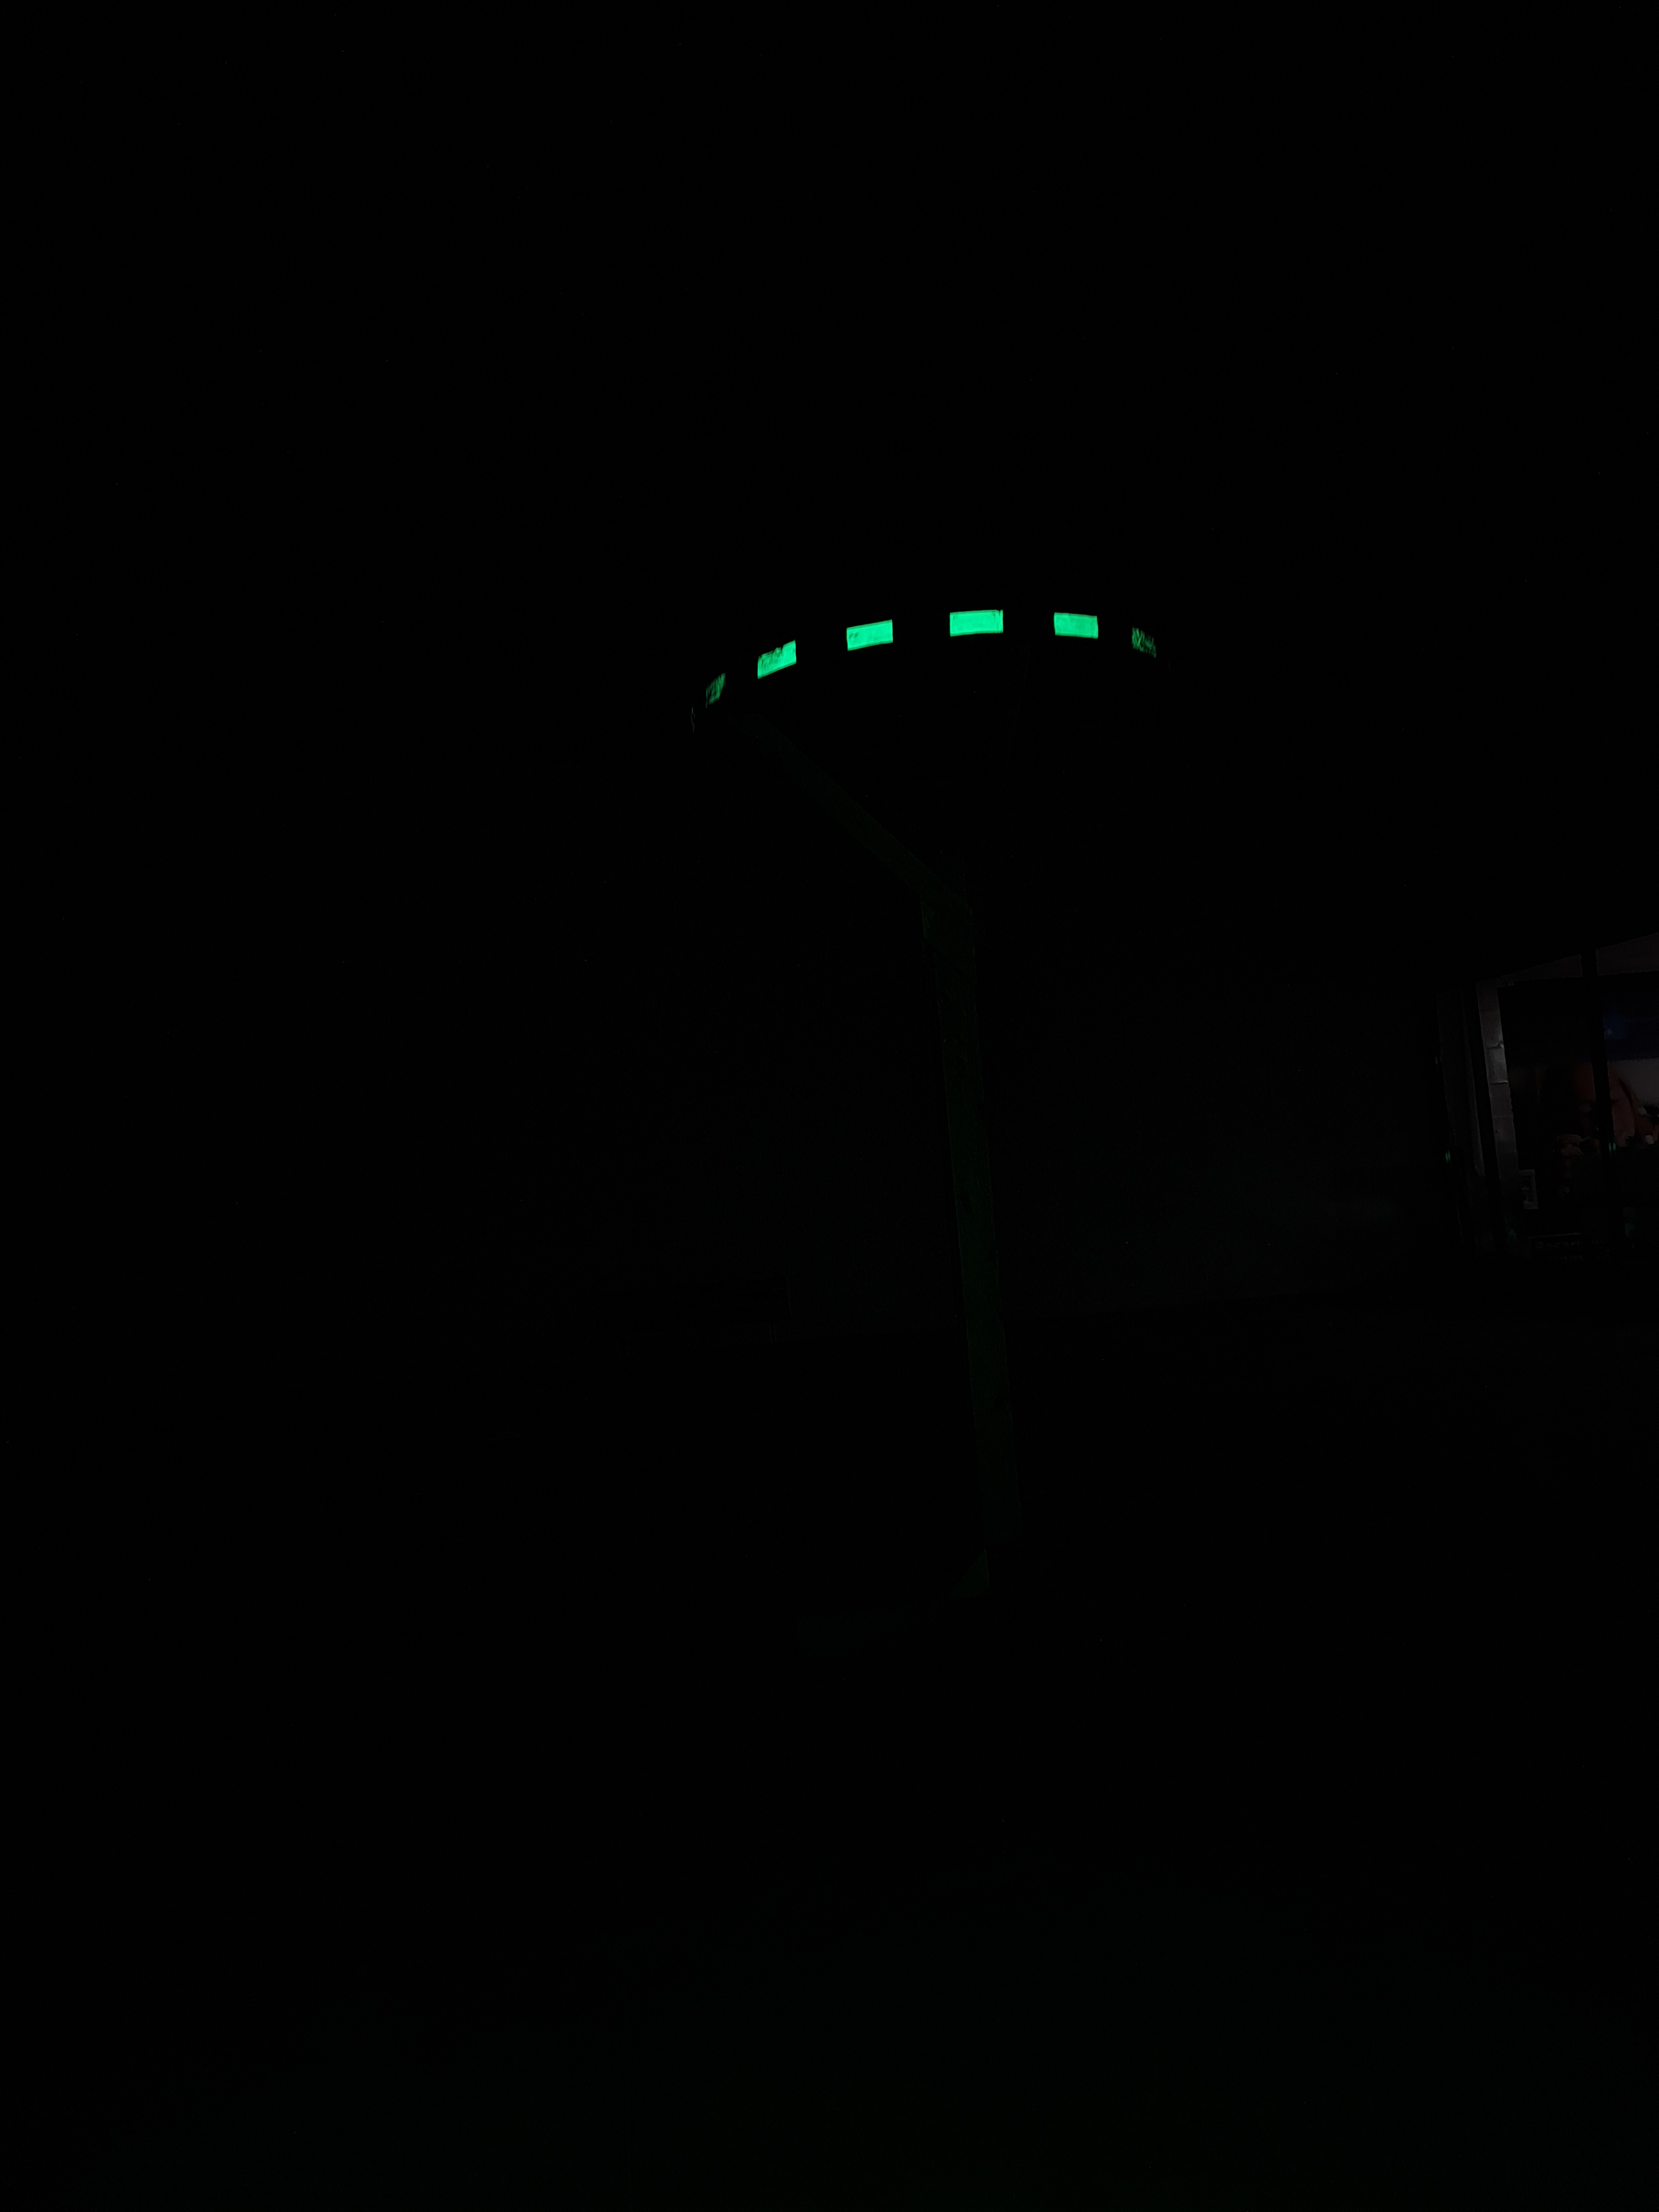hoop: (680, 578, 1188, 735)
